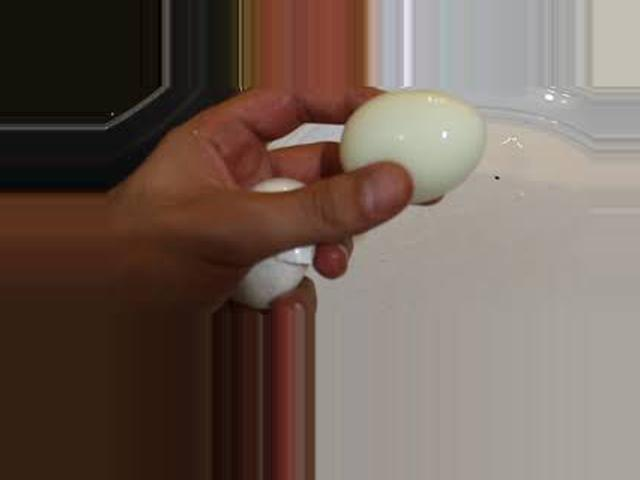egg: (340, 86, 482, 205)
